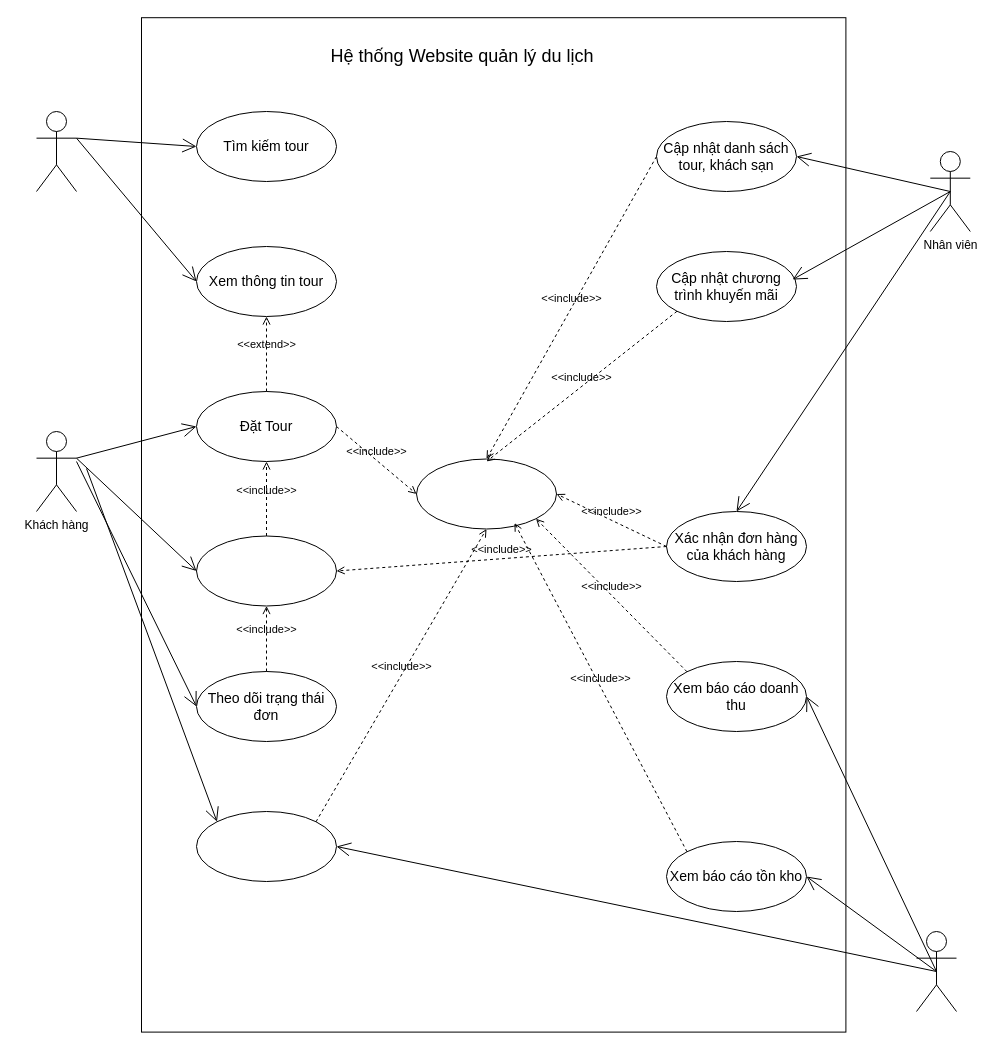
The diagram is 995 pixels wide and 1050 high, and some of its shapes have lost their labels. The shapes that lost their labels are listed below. From the top down, each one's box as (x1, y1, x2, y2) in pixels, then its label:
(36, 110, 76, 192): Khách vãng lai
(416, 458, 556, 529): Đăng nhập
(196, 535, 336, 606): Thanh toán đơn đặt tour
(196, 810, 336, 882): Quản lý tài khoản người dùng
(916, 930, 956, 1012): Admin
